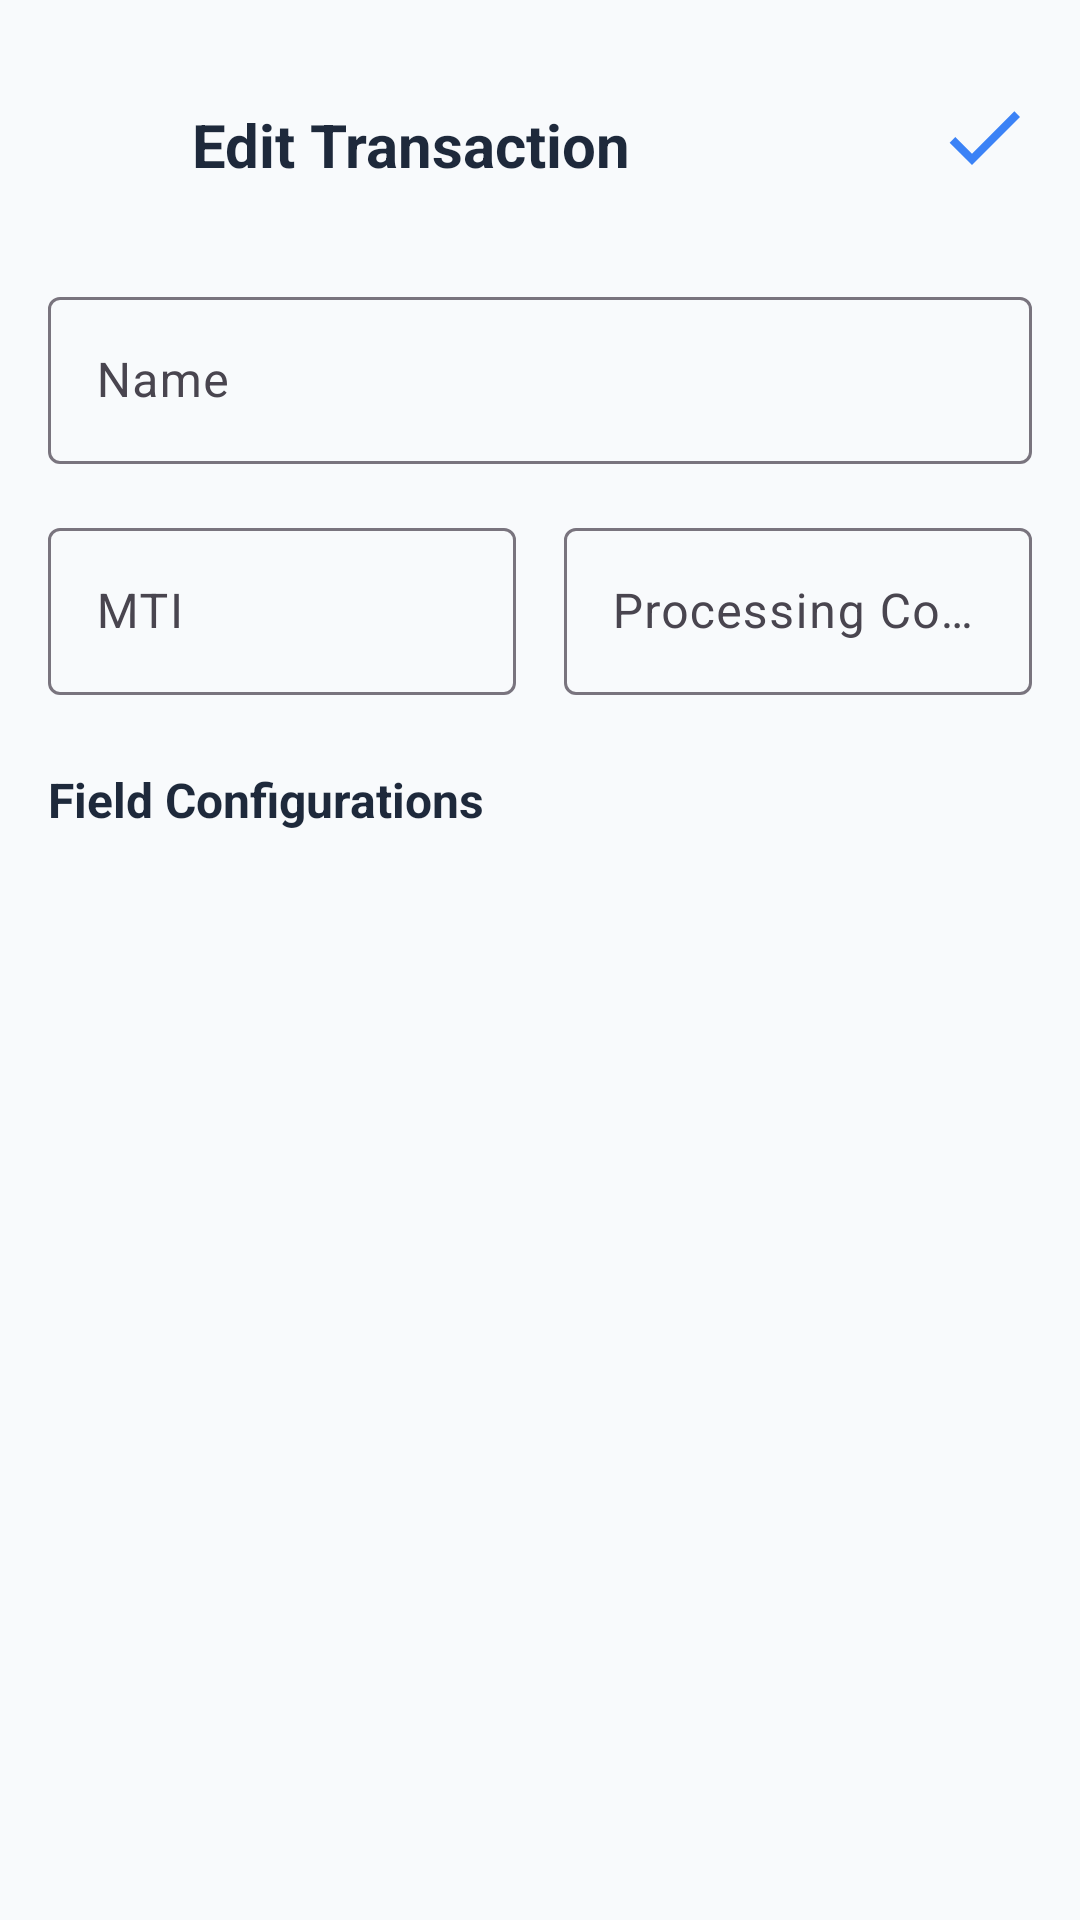

Icons on this 1080*1920 Android screen, each with its box as [x1=x1, y1=y1, x2=x2, y2=y2]:
check: [x1=950, y1=111, x2=1020, y2=165]
